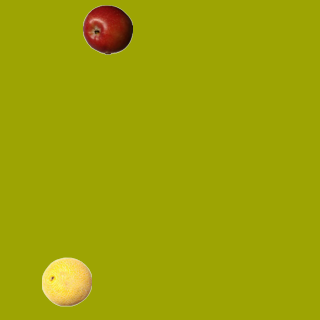Apple Braeburn: (82, 4, 132, 54)
Cantaloupe 1: (41, 256, 91, 306)
